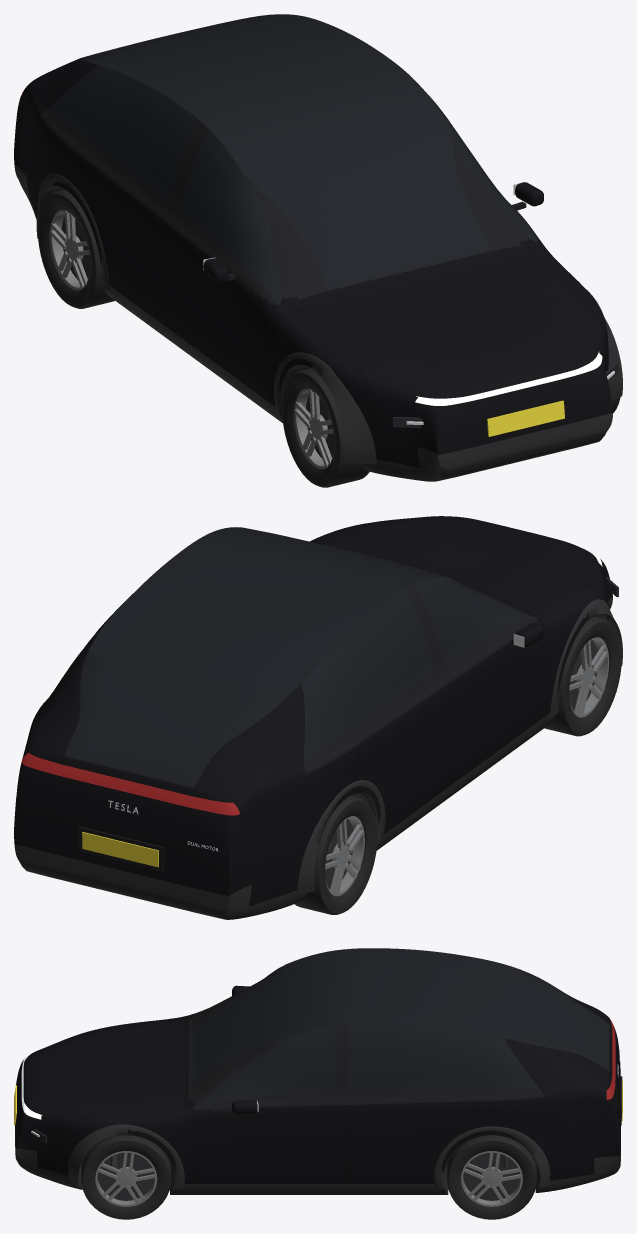
File: car-tesla-y.glb
3 views of the same model, one above another, from view 1: azimuth 30°, elevation 25°; view 2: azimuth 150°, elevation 25°; view 3: azimuth 270°, elevation 25° (orthographic). The views are drawn at different scales.
Visible parts, largest first — view 1: body, arch_trim, tyre, hub, plate_f, rim_dark; view 2: body, arch_trim, tyre, hub, plate_f, rim_dark; view 3: body, arch_trim, tyre, hub, rim_dark.
Boxes of the visible parts, x1,y1,x2,y2 form: body: [14, 14, 612, 468]; arch_trim: [14, 165, 622, 481]; tyre: [37, 189, 620, 487]; hub: [50, 210, 334, 468]; plate_f: [487, 400, 564, 436]; rim_dark: [61, 216, 334, 458]; body: [14, 516, 612, 906]; arch_trim: [14, 596, 622, 919]; tyre: [294, 616, 621, 914]; hub: [325, 637, 609, 896]; plate_f: [82, 832, 158, 867]; rim_dark: [325, 640, 597, 889]; body: [15, 948, 622, 1183]; arch_trim: [15, 1124, 620, 1194]; tyre: [81, 1135, 536, 1219]; hub: [95, 1151, 522, 1206]; rim_dark: [97, 1153, 520, 1200].
Bounding box in the file's own units: 2.25 × 1.62 × 4.81.
